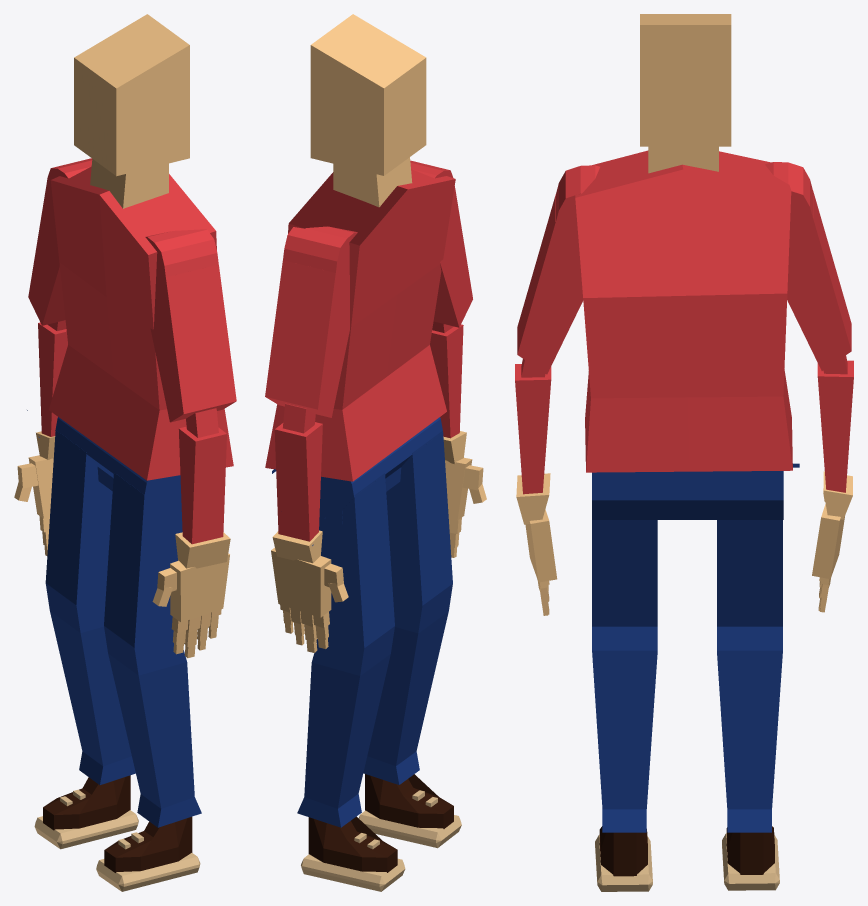
File: PlayerC.fbx
The picture shows the model from 3 angles, left to right: view 1: azimuth 30°, elevation 25°; view 2: azimuth 150°, elevation 25°; view 3: azimuth 270°, elevation 25°; orthographic projection. The views are drawn at different scales.
Visible parts, largest first — view 1: Cube.002; view 2: Cube.002; view 3: Cube.002.
Part boxes in pixels (x1,y1,x2,y2): Cube.002: [14, 14, 236, 891]; Cube.002: [265, 14, 486, 891]; Cube.002: [515, 14, 853, 891].
Bounding box in the file's own units: 317 × 2184 × 769.
